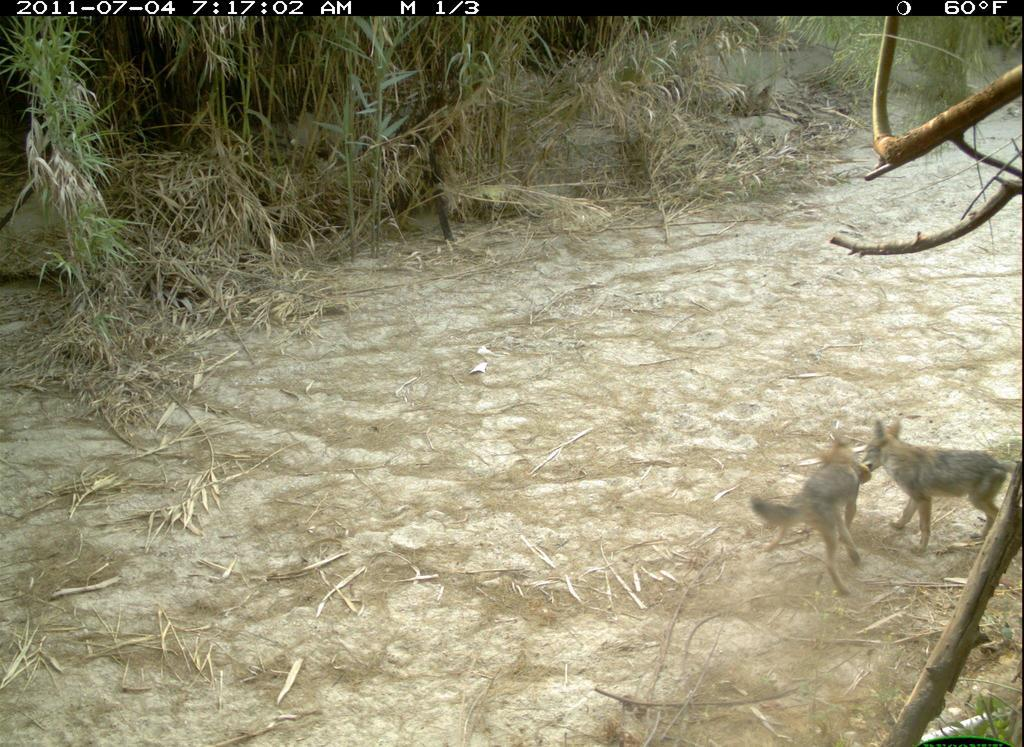coyote: (862, 402, 1019, 564), (751, 440, 894, 602)
